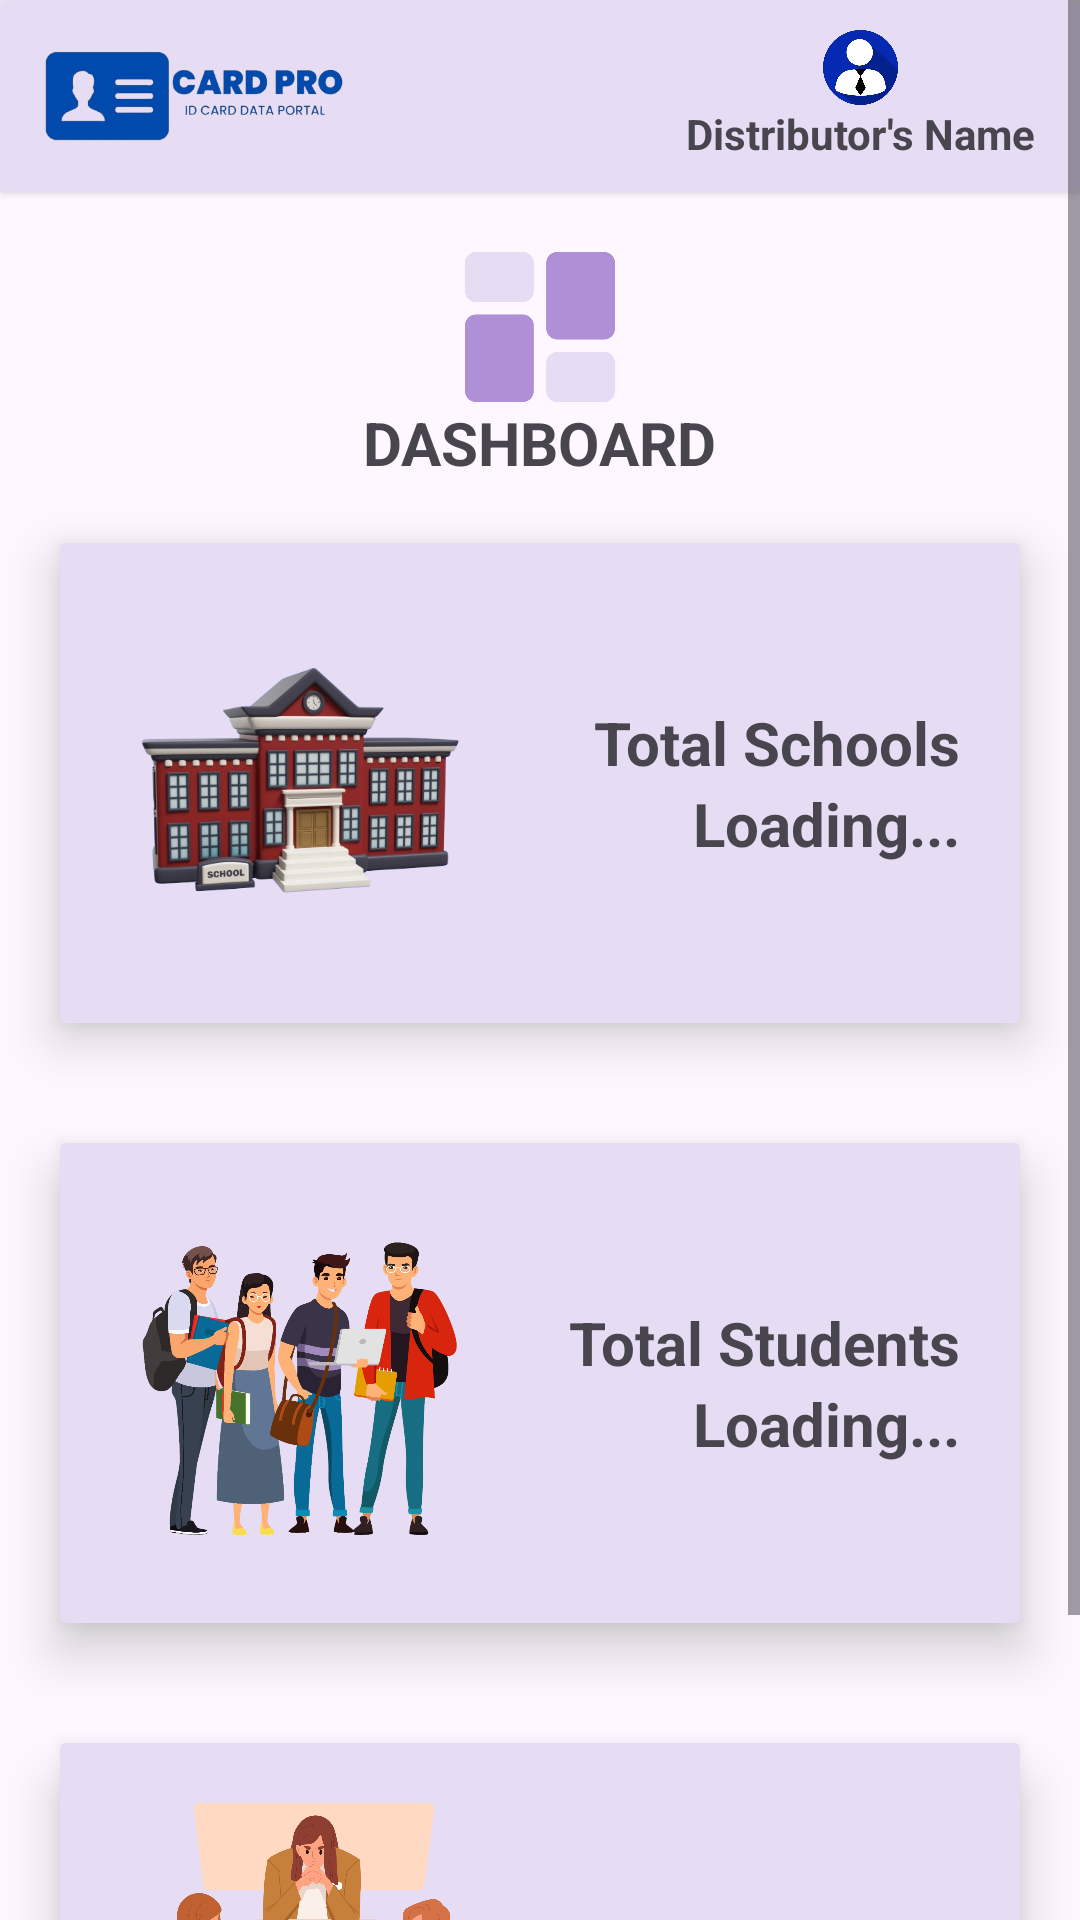

Screen size 1080w x 1920h. Icon name, then its center in pixels as (x,y):
dashboard student: (299,1388)
